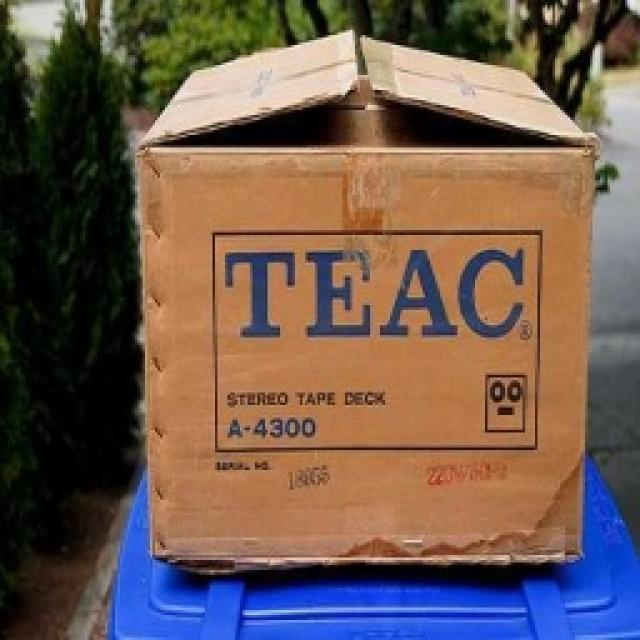box: (140, 24, 603, 583)
